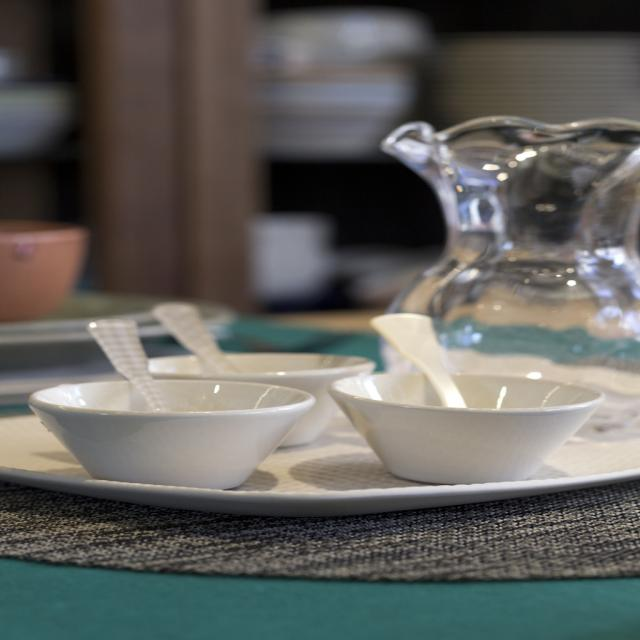non-organic waste: (0, 318, 629, 556)
